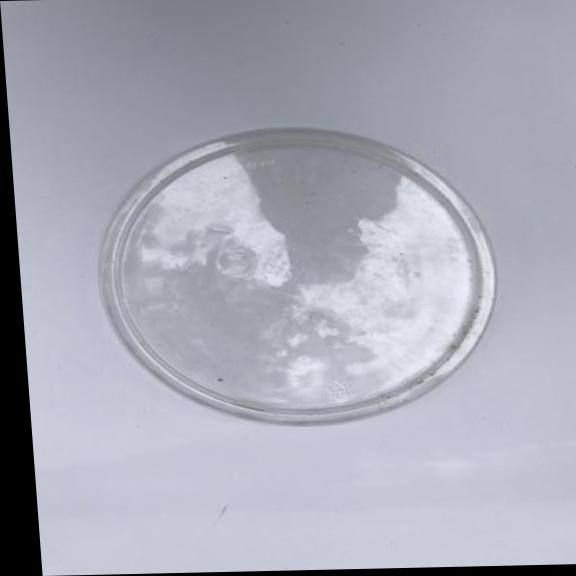Plastik: (75, 118, 513, 437)
